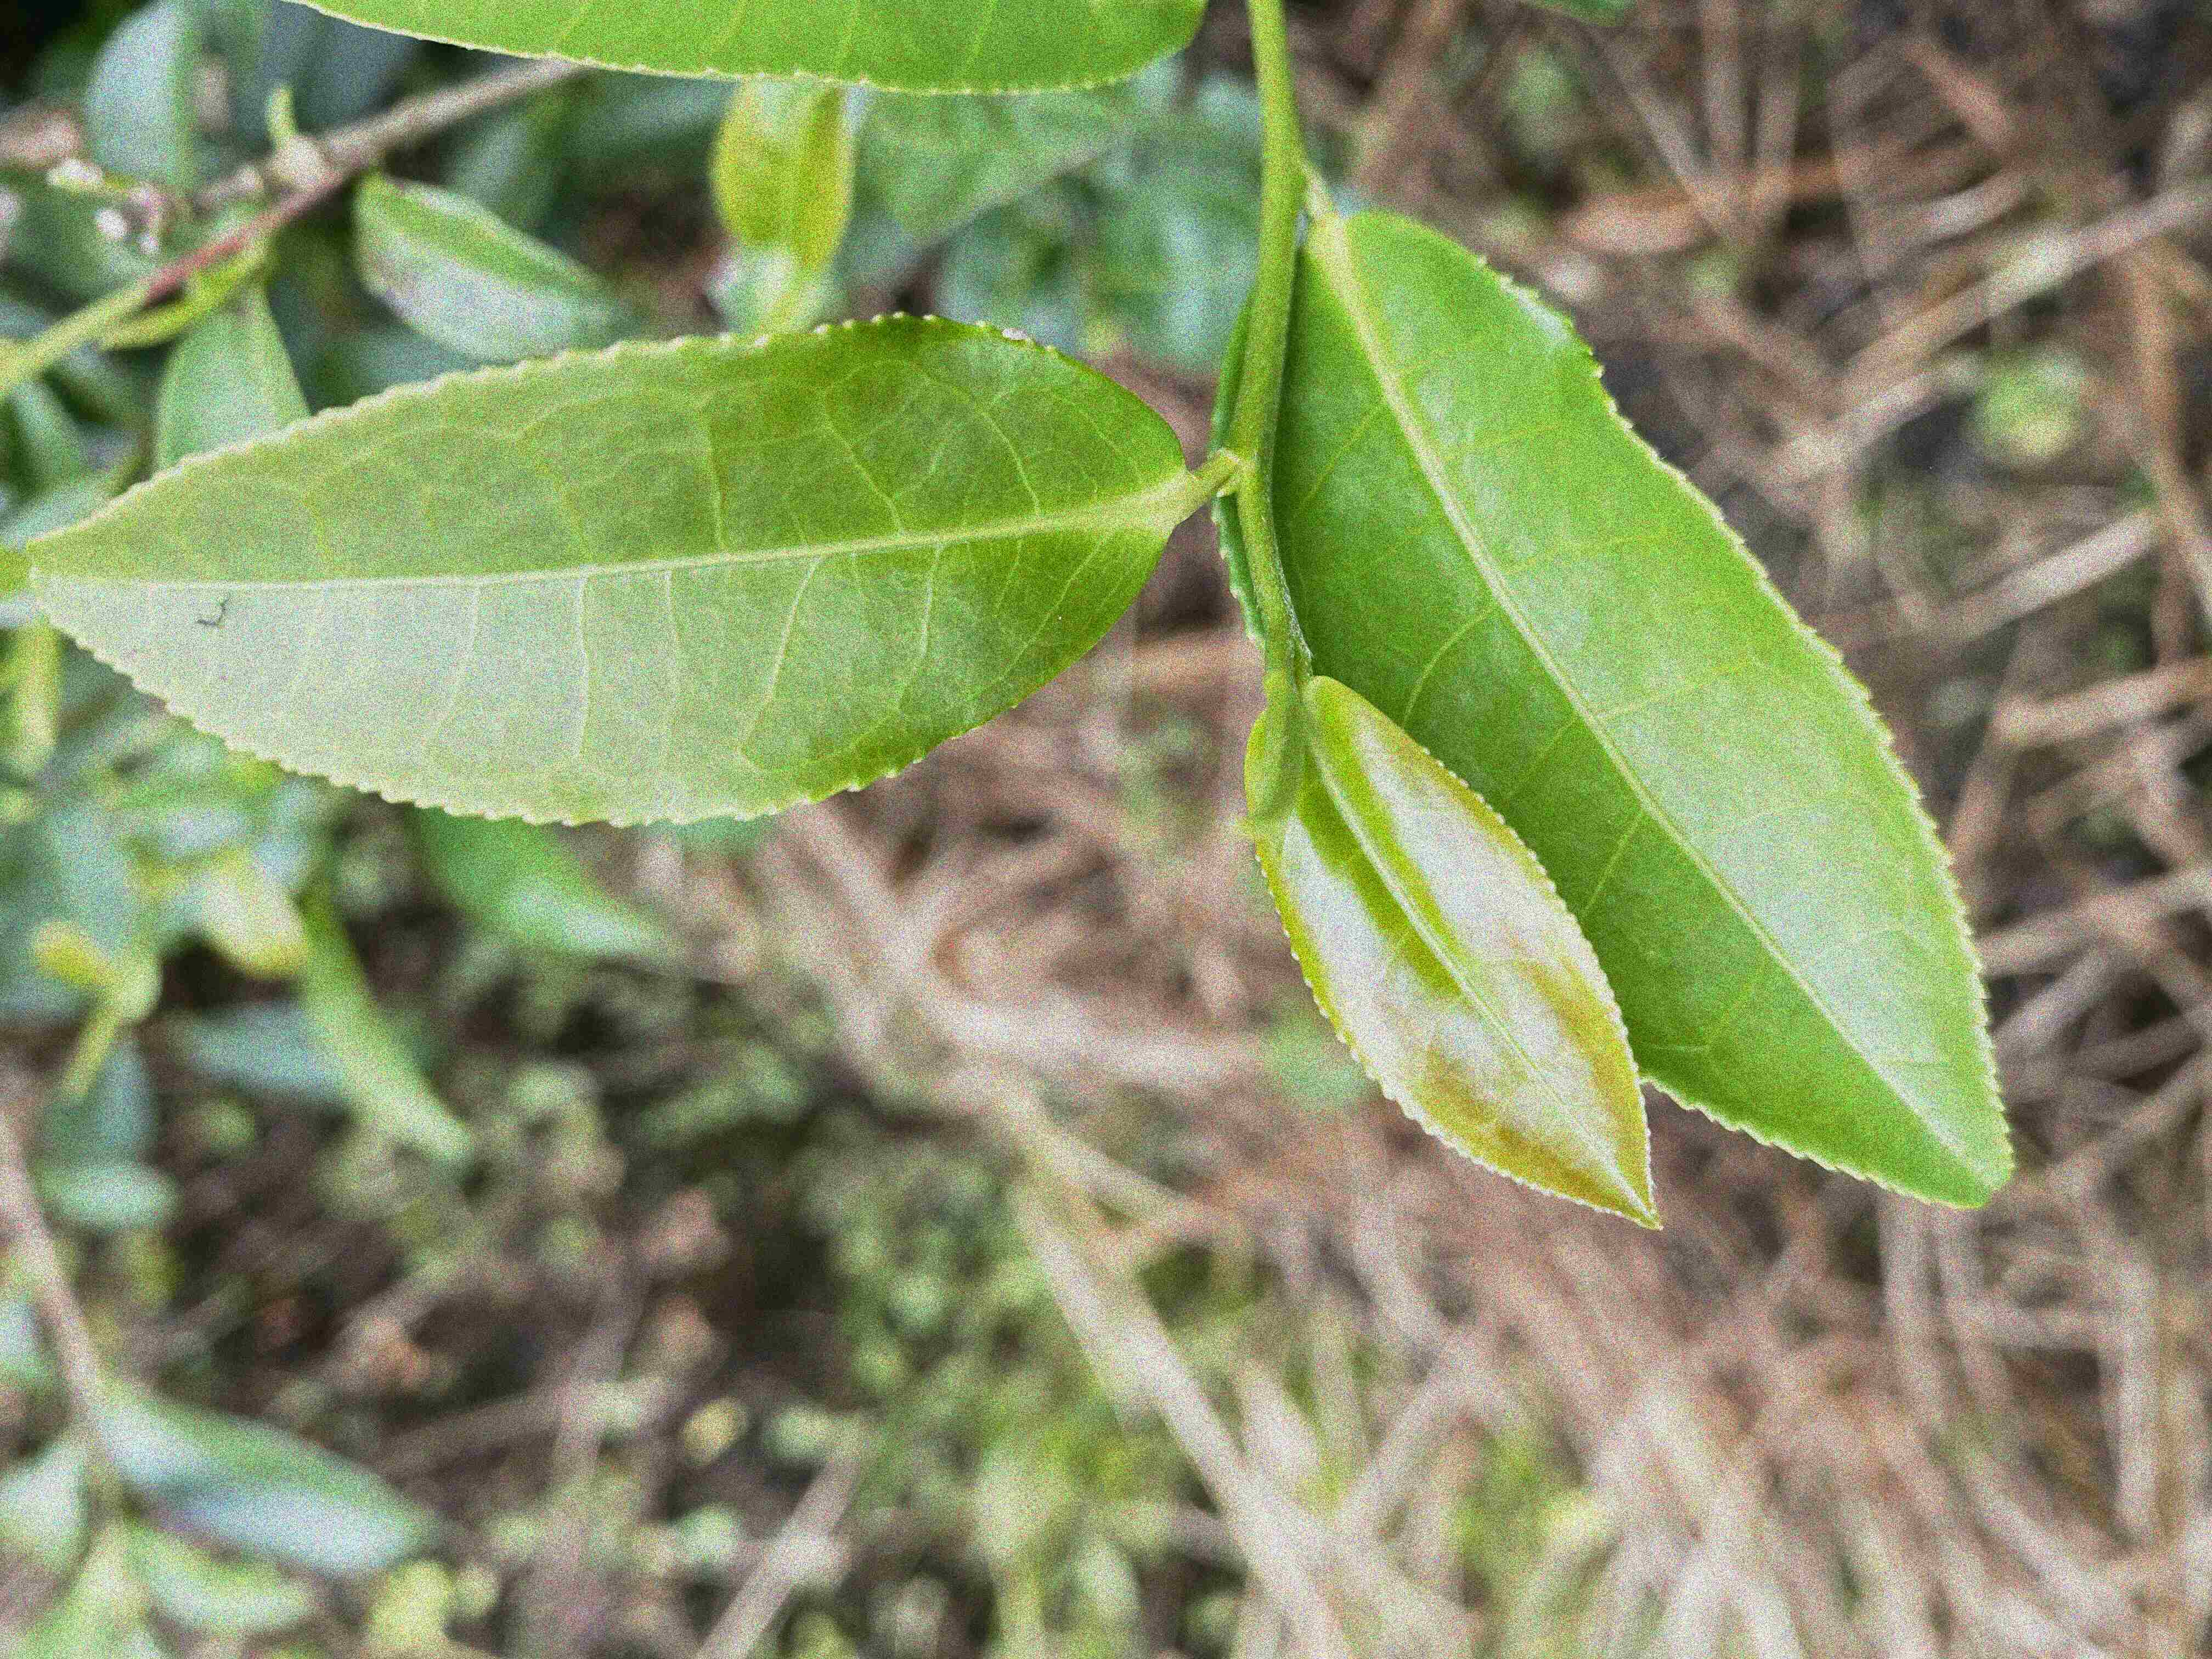healthy: (1209, 214, 2013, 1209), (24, 305, 1190, 830), (1240, 674, 1665, 1232)
